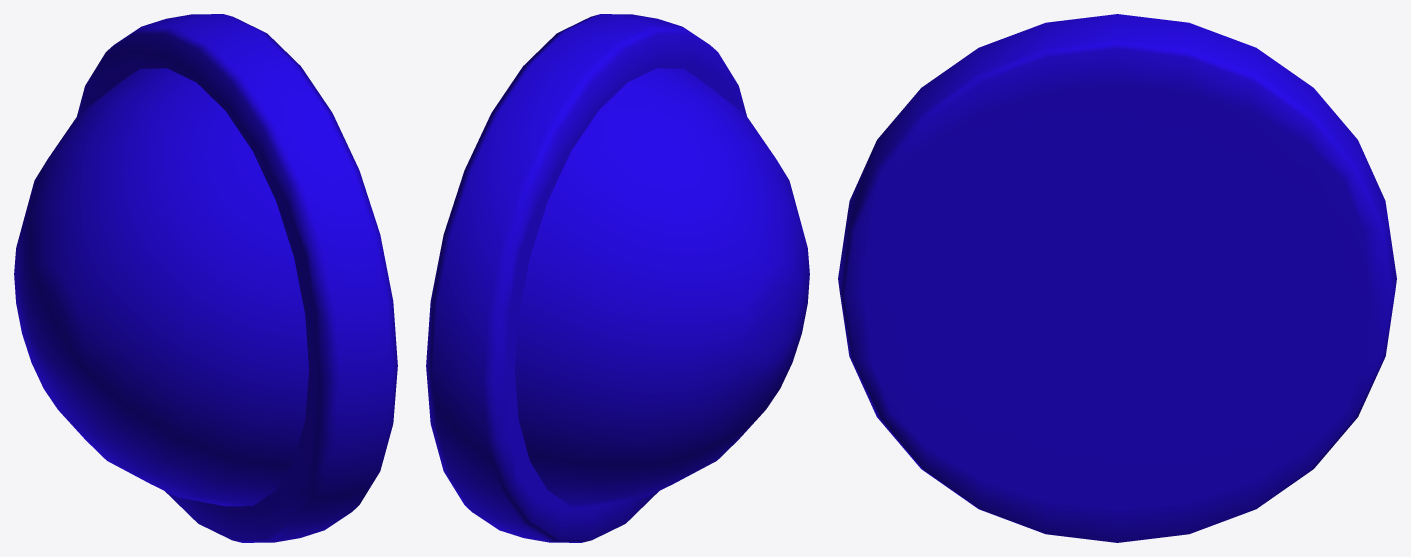
The model's file is Lever_Light_Feedback_02.fbx.
3 views of the same model, side by side, from view 1: azimuth 30°, elevation 25°; view 2: azimuth 150°, elevation 25°; view 3: azimuth 270°, elevation 25° (orthographic). The views are drawn at different scales.
Visible parts, largest first — view 1: Lever_Light_Feedback_02; view 2: Lever_Light_Feedback_02; view 3: Lever_Light_Feedback_02.
Part boxes in pixels (left/top/right/bottom): Lever_Light_Feedback_02: left=14, top=14, right=397, bottom=542; Lever_Light_Feedback_02: left=426, top=14, right=809, bottom=542; Lever_Light_Feedback_02: left=838, top=14, right=1396, bottom=542.
Size of the model in its own units: 1.92 by 3.98 by 3.98.
